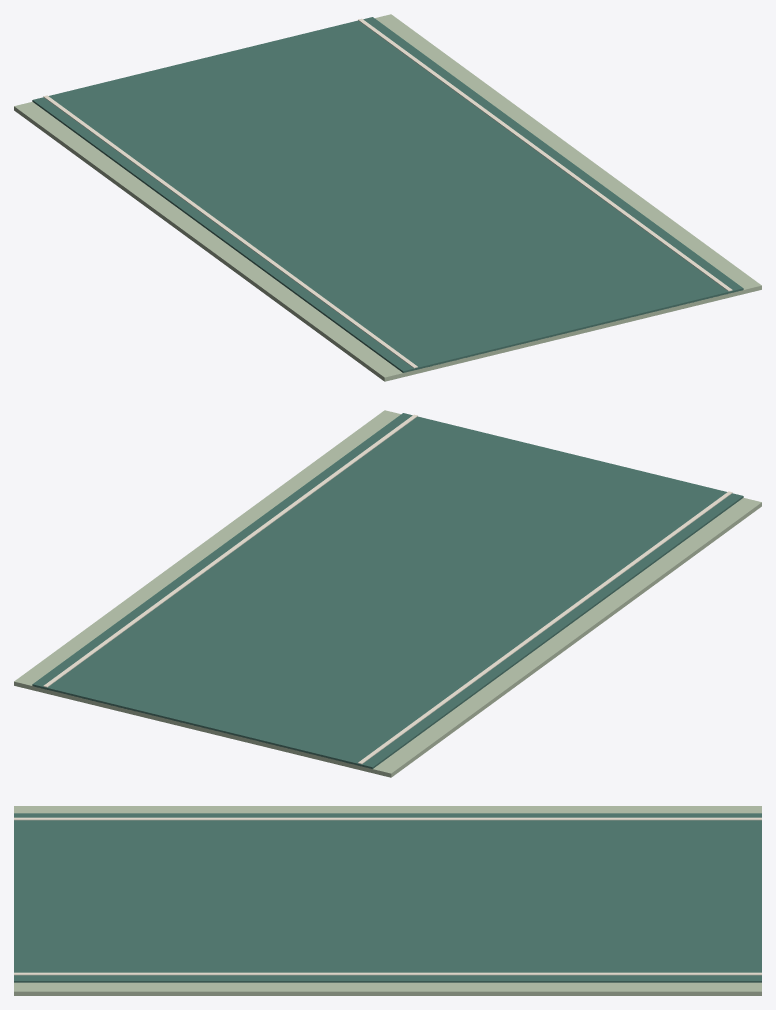
File: lobby-runner.glb
3 renders of one model, top to bottom at view 1: azimuth 30°, elevation 25°; view 2: azimuth 150°, elevation 25°; view 3: azimuth 270°, elevation 25°, orthographic.
Parts seen in each view (by area): view 1: lobby-runner / Sea glass runner.003, lobby-runner / Carpet border.001, lobby-runner / Warm linen.004; view 2: lobby-runner / Sea glass runner.003, lobby-runner / Carpet border.001, lobby-runner / Warm linen.004; view 3: lobby-runner / Sea glass runner.003, lobby-runner / Carpet border.001, lobby-runner / Warm linen.004.
Boxes of the visible parts, box(x1,y1,x2,y2) form: lobby-runner / Sea glass runner.003: box(32, 17, 743, 372); lobby-runner / Carpet border.001: box(14, 14, 761, 381); lobby-runner / Warm linen.004: box(43, 18, 732, 368); lobby-runner / Sea glass runner.003: box(32, 413, 743, 768); lobby-runner / Carpet border.001: box(14, 410, 761, 777); lobby-runner / Warm linen.004: box(43, 414, 732, 764); lobby-runner / Sea glass runner.003: box(14, 813, 761, 982); lobby-runner / Carpet border.001: box(14, 806, 761, 995); lobby-runner / Warm linen.004: box(14, 817, 761, 975).
Bounding box in the file's own units: 2.35 × 0.0415 × 4.
